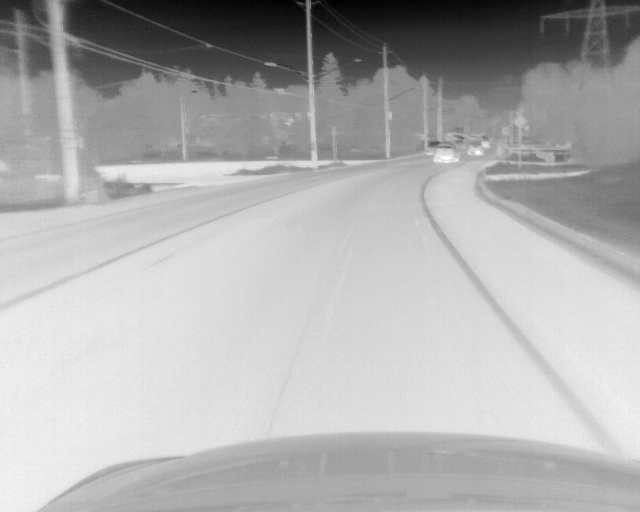car: (432, 142, 459, 163), (466, 143, 484, 155), (424, 139, 437, 155), (481, 139, 490, 149)
